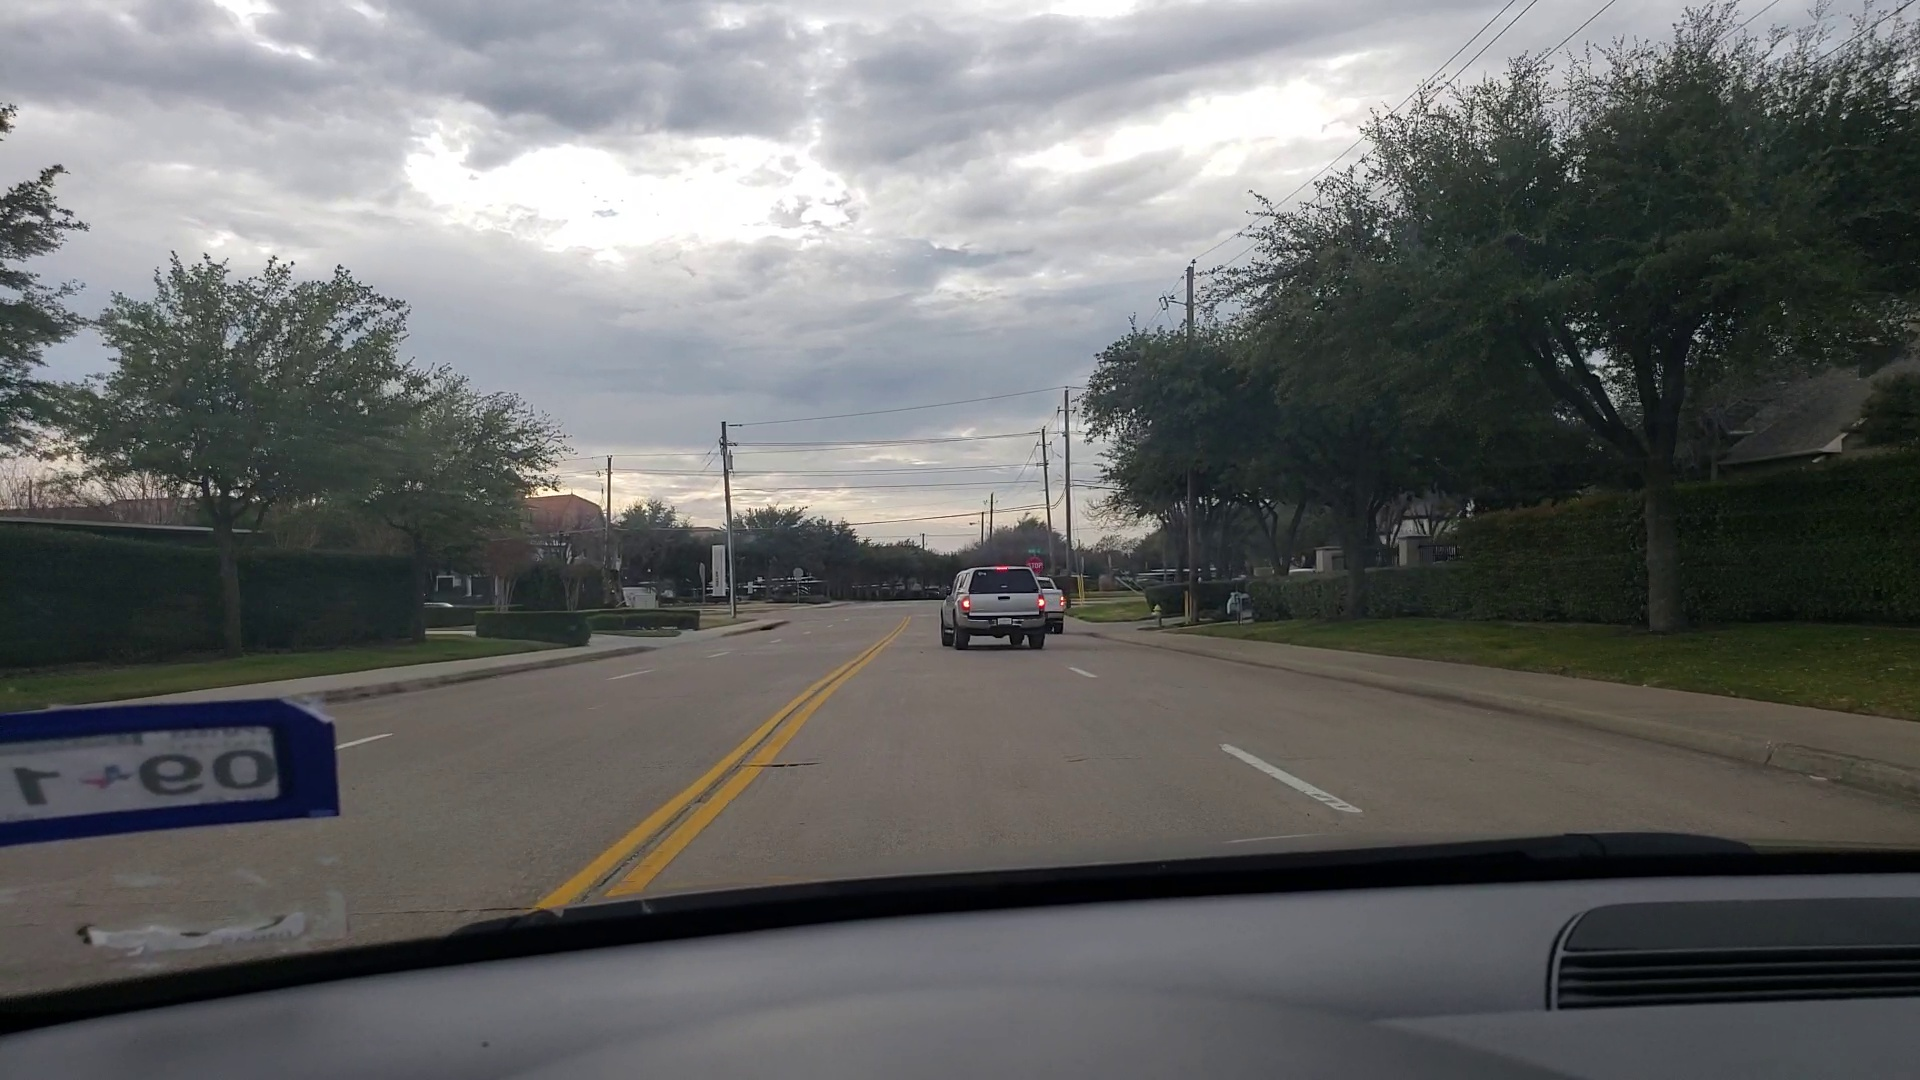stop sign: (1025, 553, 1048, 575)
truck: (939, 563, 1052, 647), (1040, 574, 1073, 634)
